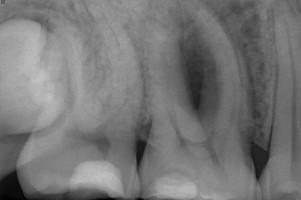Endo-Periodontal Lesion: (178, 32, 206, 111)
